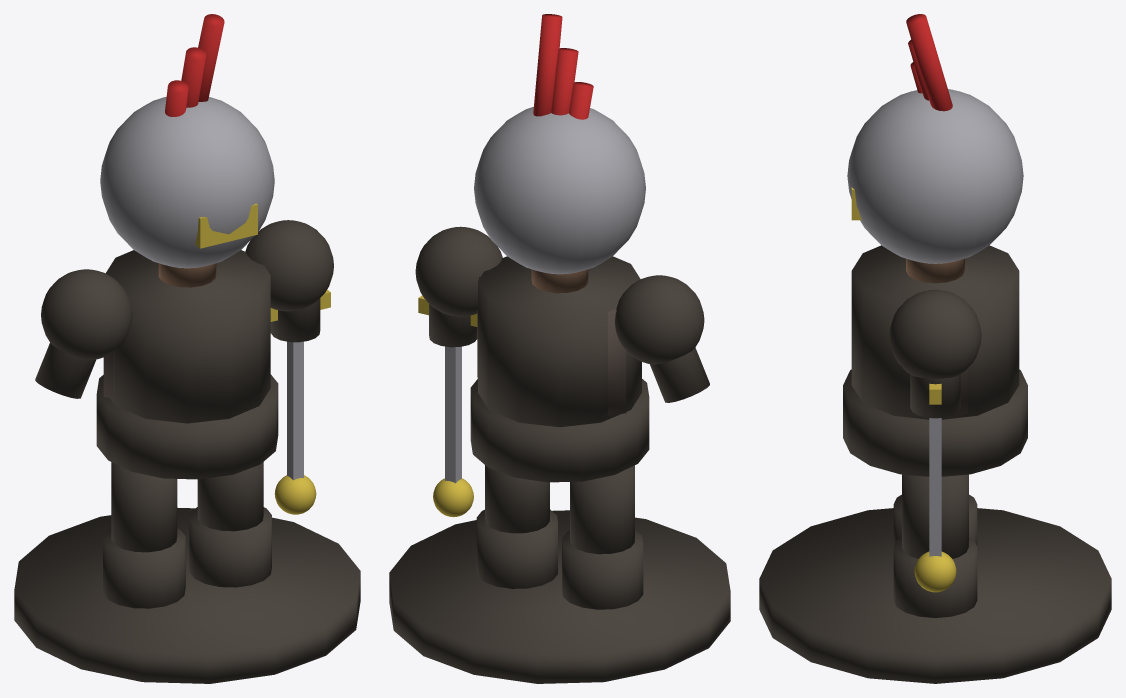
The model's file is Nguad.glb.
The picture shows the model from 3 angles, left to right: view 1: azimuth 30°, elevation 25°; view 2: azimuth 150°, elevation 25°; view 3: azimuth 270°, elevation 25°; orthographic projection. The views are drawn at different scales.
Parts seen in each view (by area): view 1: B_Knight; view 2: B_Knight; view 3: B_Knight.
Part boxes in pixels (x1,y1,x2,y2): B_Knight: (14, 14, 360, 683); B_Knight: (389, 14, 730, 683); B_Knight: (759, 14, 1111, 683).
Bounding box in the file's own units: 0.84 × 1.58 × 0.84.
